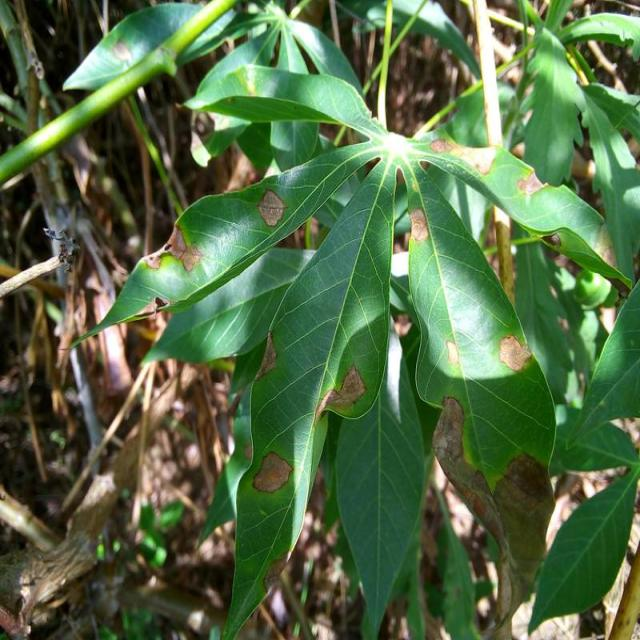cassava leaf: (61, 1, 637, 637), (220, 150, 397, 638), (402, 151, 558, 495)
